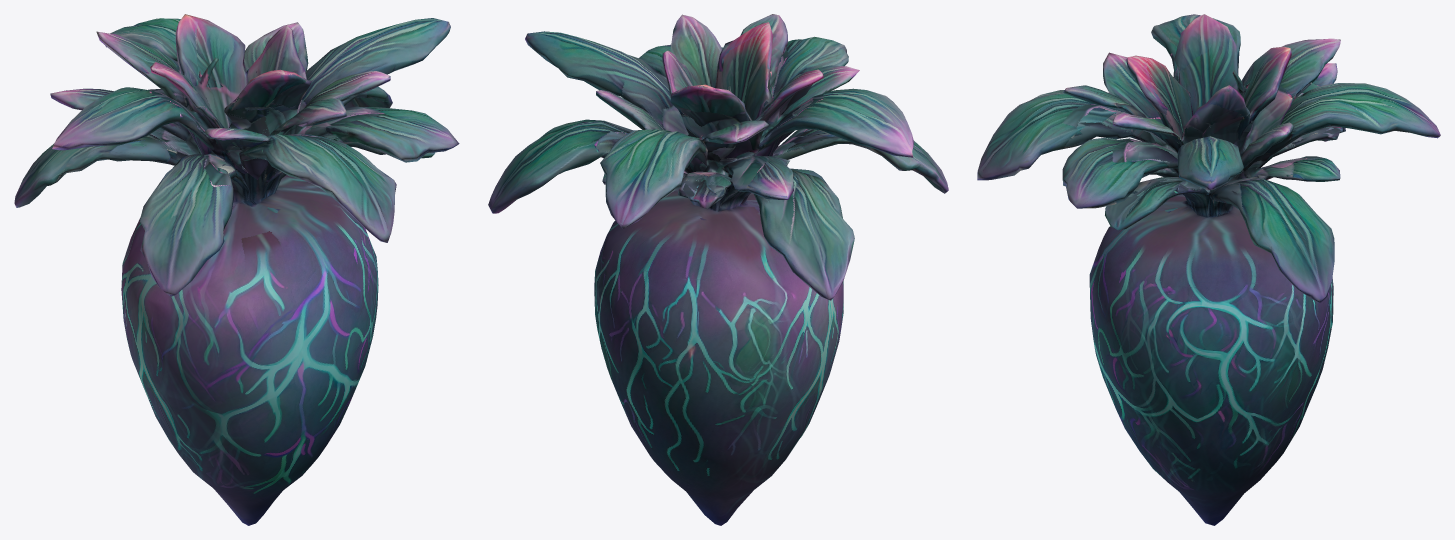
File: Glowing_Fantasy_Plant_4596.fbx
The picture shows the model from 3 angles, left to right: view 1: azimuth 30°, elevation 25°; view 2: azimuth 150°, elevation 25°; view 3: azimuth 270°, elevation 25°; orthographic projection. The views are drawn at different scales.
Parts seen in each view (by area): view 1: Glowing_Fantasy_Plant_4596; view 2: Glowing_Fantasy_Plant_4596; view 3: Glowing_Fantasy_Plant_4596.
Boxes of the visible parts, x1=… form: Glowing_Fantasy_Plant_4596: x1=14, y1=14, x2=459, y2=525; Glowing_Fantasy_Plant_4596: x1=488, y1=14, x2=948, y2=525; Glowing_Fantasy_Plant_4596: x1=977, y1=14, x2=1440, y2=525.
Size of the model in its own units: 0.6005 by 0.7 by 0.6312.
1 material, 1 textured.
